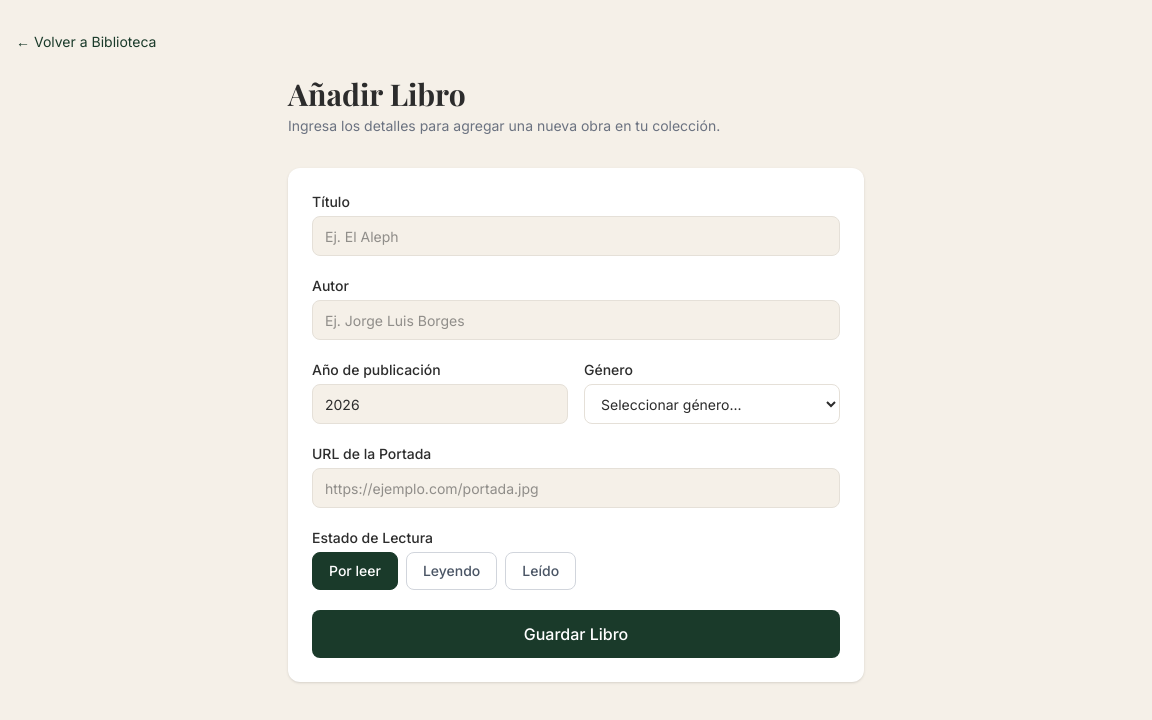
Test: AnadirLibro › muestra error si se intenta guardar sin título
This screenshot has width=1152, height=720.
Click the button "Guardar Libro" at (576, 634), box x1=312 y1=610 x2=840 y2=658
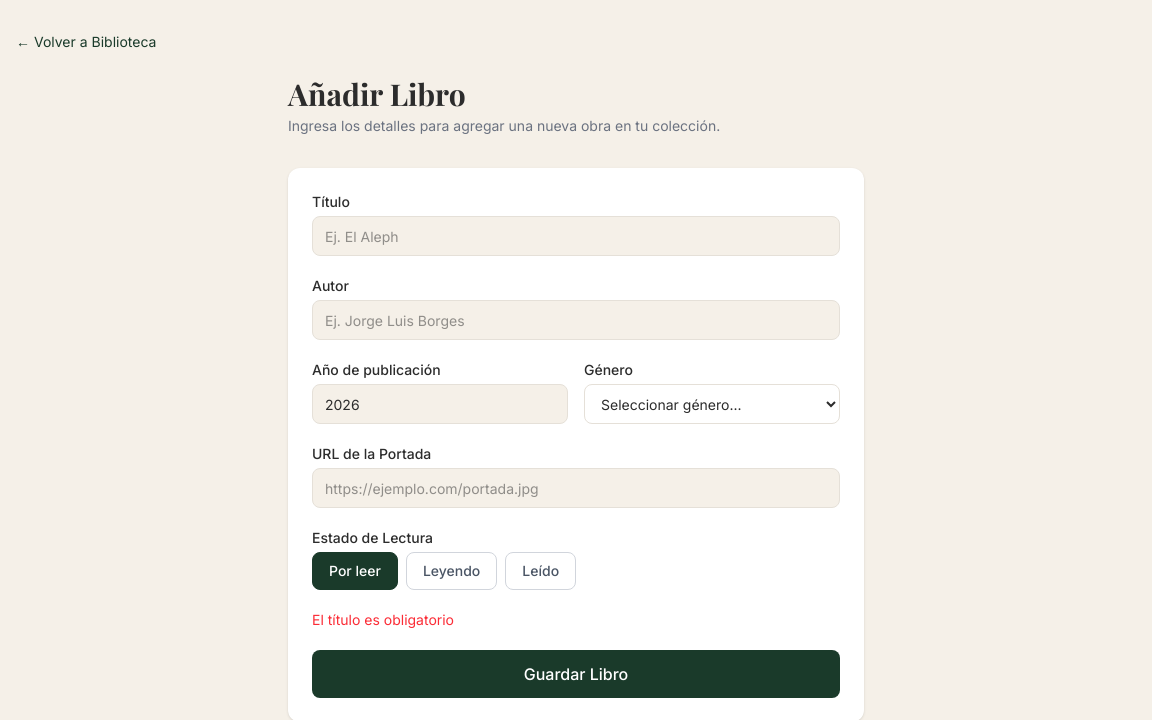
Now the text "El título es obligatorio" is shown, box x1=312 y1=611 x2=454 y2=628
